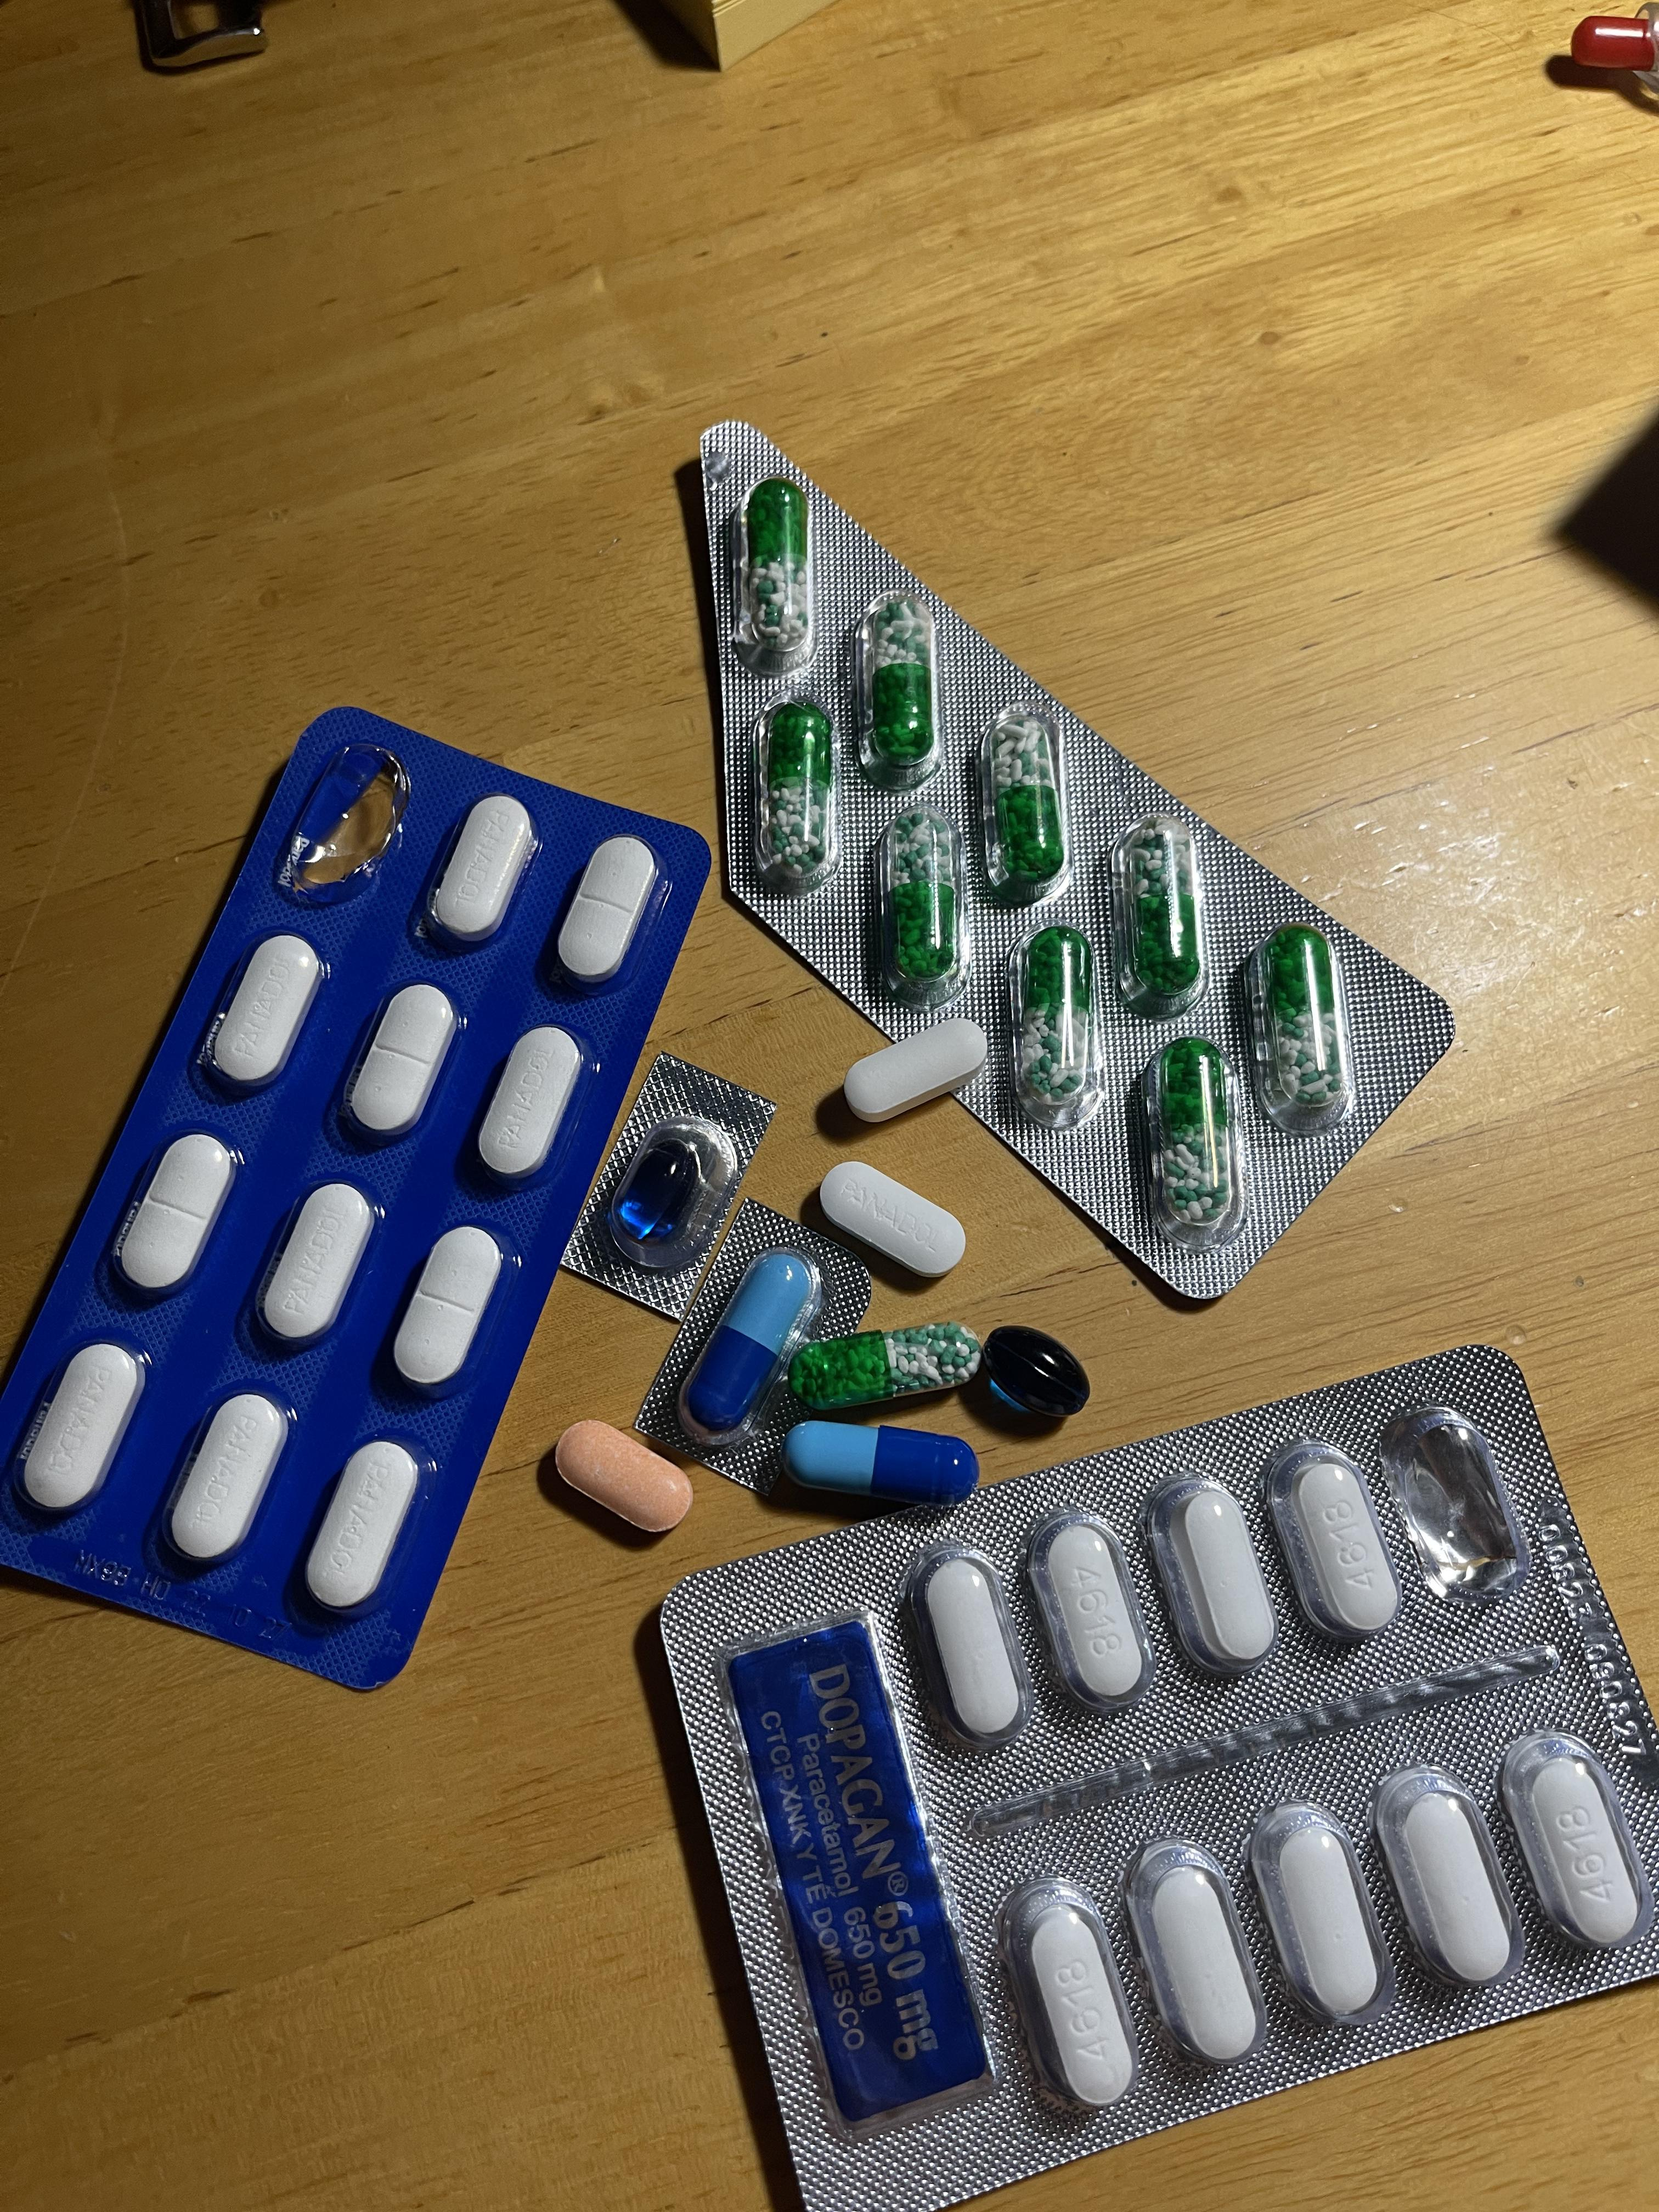Lincomyxin_500mg: (979, 1322, 1091, 1414), (615, 1143, 701, 1245)
Loratadine_10mg: (552, 1420, 697, 1533)
Paracetamol_350mg: (17, 1341, 143, 1519), (164, 1390, 288, 1564), (117, 1130, 237, 1298), (204, 934, 324, 1099), (260, 1181, 376, 1350), (305, 1440, 420, 1611), (392, 1223, 502, 1393), (345, 982, 458, 1144), (472, 1024, 586, 1184), (819, 1160, 967, 1280), (554, 834, 660, 991), (429, 796, 538, 948)
Paracetamol_500mg: (1499, 1728, 1659, 1958), (993, 1872, 1133, 2109), (1263, 1440, 1401, 1648), (1140, 1470, 1272, 1677), (906, 1545, 1032, 1749), (1396, 1785, 1511, 1984), (1145, 1865, 1253, 2066), (1276, 1820, 1380, 2019), (1047, 1526, 1140, 1693), (843, 1022, 988, 1123)
Paracetamol_650mg: (1251, 921, 1358, 1132), (1141, 1038, 1239, 1245), (873, 803, 971, 1007), (1009, 925, 1101, 1125), (1108, 815, 1201, 1012), (983, 711, 1072, 902), (791, 1324, 983, 1411), (857, 603, 943, 791), (755, 704, 840, 888), (746, 482, 812, 685)
pill: (676, 1249, 810, 1442), (791, 1428, 976, 1507)
